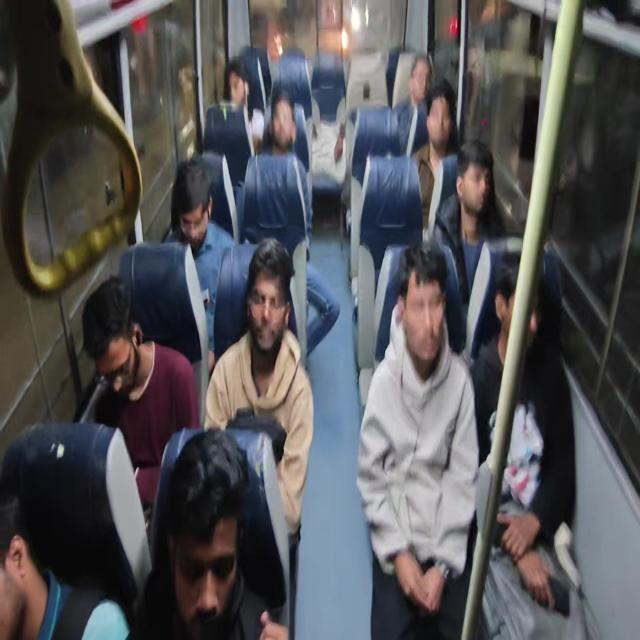person: (64, 267, 178, 467), (143, 424, 260, 612), (0, 440, 61, 640), (394, 270, 477, 406), (290, 66, 355, 225), (478, 215, 541, 344), (208, 237, 273, 361), (420, 86, 485, 182), (168, 164, 227, 262), (458, 149, 495, 235), (220, 59, 266, 124), (261, 72, 294, 136), (400, 49, 434, 108)
